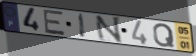4: (21, 6, 44, 34), (131, 19, 149, 46)
E: (42, 9, 66, 37)
I: (78, 12, 87, 40)
N: (93, 15, 123, 44)
Q: (152, 22, 176, 48)
